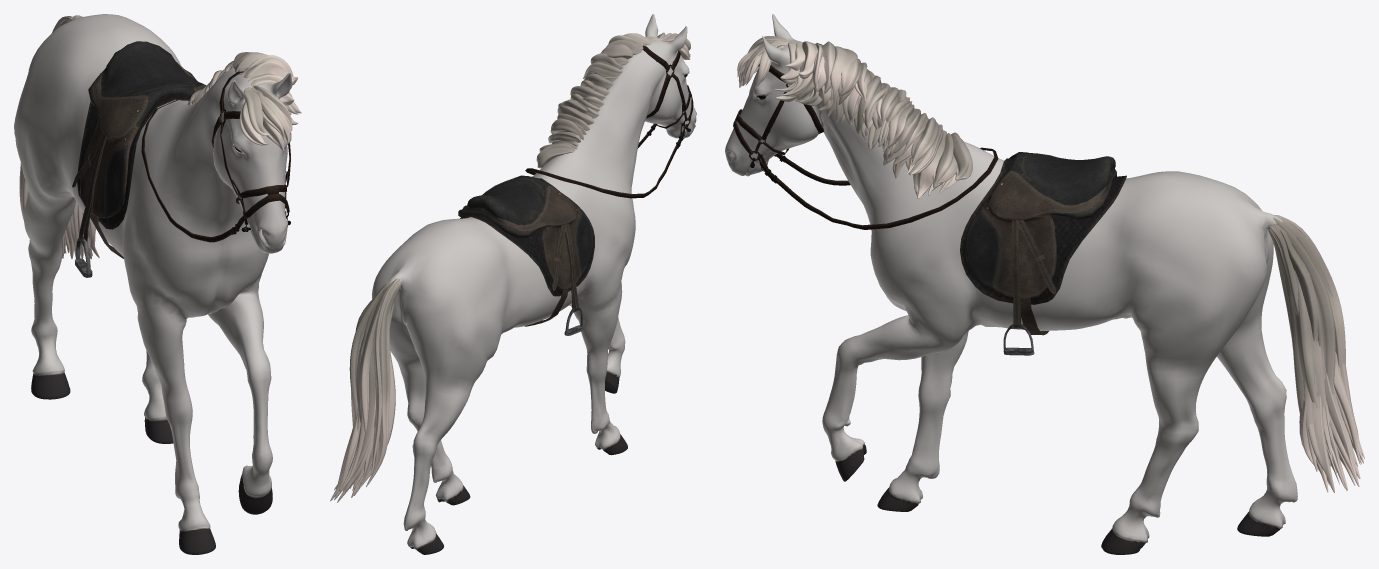
Rendered from COSSACK_SPUTNIK_3#20.glb.
3 views of the same model, side by side, from view 1: azimuth 30°, elevation 25°; view 2: azimuth 150°, elevation 25°; view 3: azimuth 270°, elevation 25° (orthographic). The views are drawn at different scales.
Visible parts, largest first — view 1: Hair.6-Horse_Sub, Hair.7-Reigns_Sub, Hair.4-Reigns_Sub, Hair.5-Reigns_Sub; view 2: Hair.6-Horse_Sub, Hair.4-Reigns_Sub, Hair.7-Reigns_Sub, Hair.5-Reigns_Sub; view 3: Hair.6-Horse_Sub, Hair.4-Reigns_Sub, Hair.7-Reigns_Sub, Hair.5-Reigns_Sub.
Boxes of the visible parts, x1=… form: Hair.6-Horse_Sub: x1=14, y1=14, x2=292, y2=554; Hair.7-Reigns_Sub: x1=72, y1=41, x2=206, y2=277; Hair.4-Reigns_Sub: x1=19, y1=15, x2=301, y2=259; Hair.5-Reigns_Sub: x1=141, y1=71, x2=290, y2=242; Hair.6-Horse_Sub: x1=372, y1=14, x2=696, y2=554; Hair.4-Reigns_Sub: x1=330, y1=32, x2=690, y2=502; Hair.7-Reigns_Sub: x1=458, y1=175, x2=594, y2=335; Hair.5-Reigns_Sub: x1=525, y1=45, x2=693, y2=198; Hair.6-Horse_Sub: x1=725, y1=14, x2=1297, y2=554; Hair.4-Reigns_Sub: x1=737, y1=36, x2=1364, y2=492; Hair.7-Reigns_Sub: x1=960, y1=152, x2=1126, y2=355; Hair.5-Reigns_Sub: x1=733, y1=43, x2=998, y2=229.
Bounding box in the file's own units: 4.31 × 11.7 × 14.11.
Materials: 4 (4 with a texture image).
